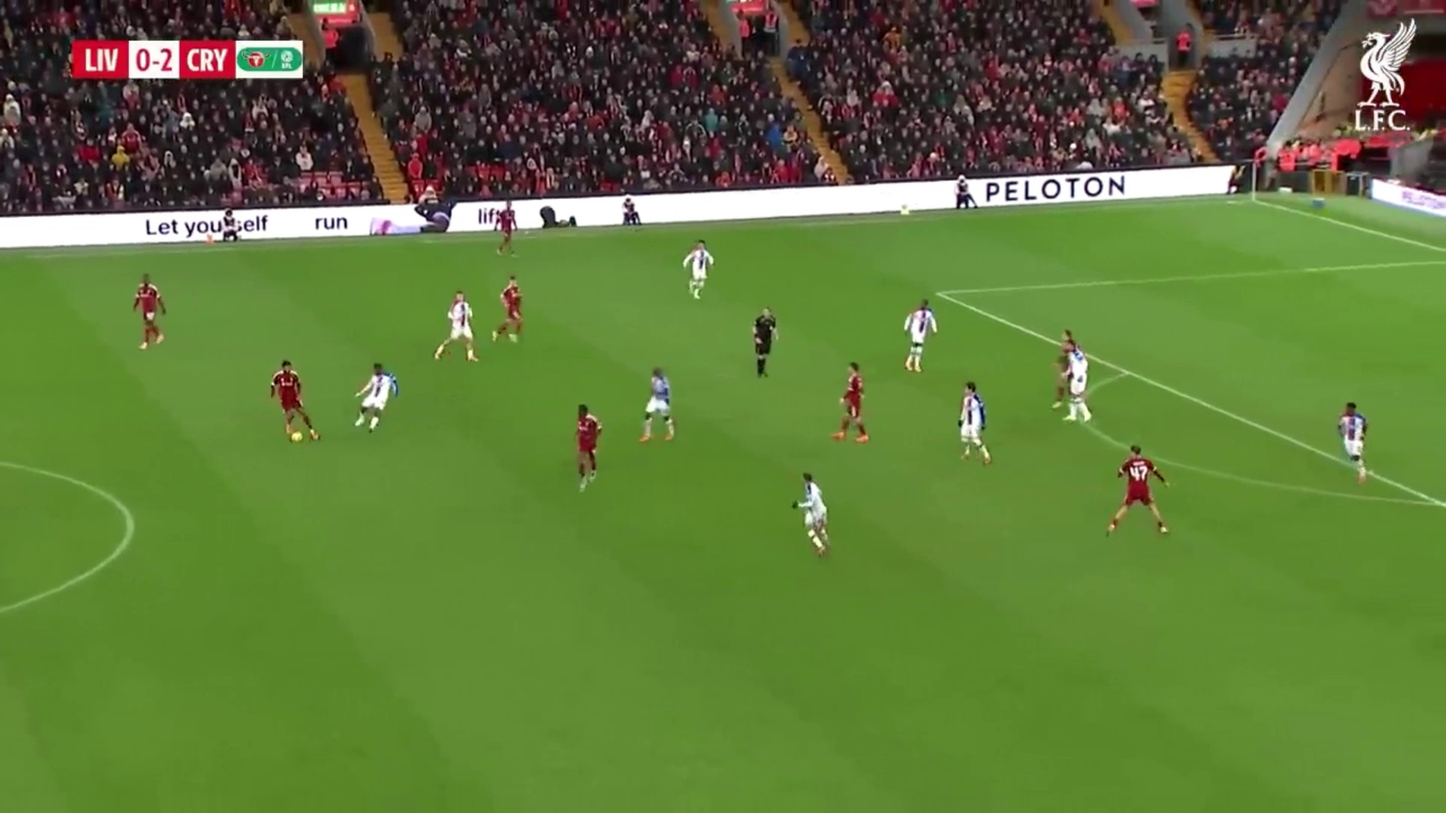player: (1106, 443, 1170, 538), (271, 360, 322, 444), (352, 360, 400, 434), (792, 469, 831, 559), (432, 291, 480, 364), (1054, 327, 1091, 421), (830, 363, 872, 445), (958, 380, 993, 466), (639, 367, 676, 444), (133, 275, 167, 351), (904, 301, 938, 374), (575, 404, 603, 492), (1339, 401, 1368, 473), (494, 276, 524, 345), (751, 309, 776, 380), (685, 243, 713, 299)
